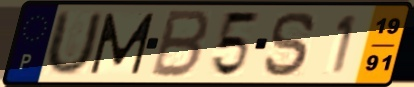1: (330, 13, 358, 77)
5: (210, 9, 261, 79)
B: (147, 8, 215, 80)
M: (87, 11, 158, 77)
S: (261, 10, 320, 79)
U: (40, 9, 106, 79)
